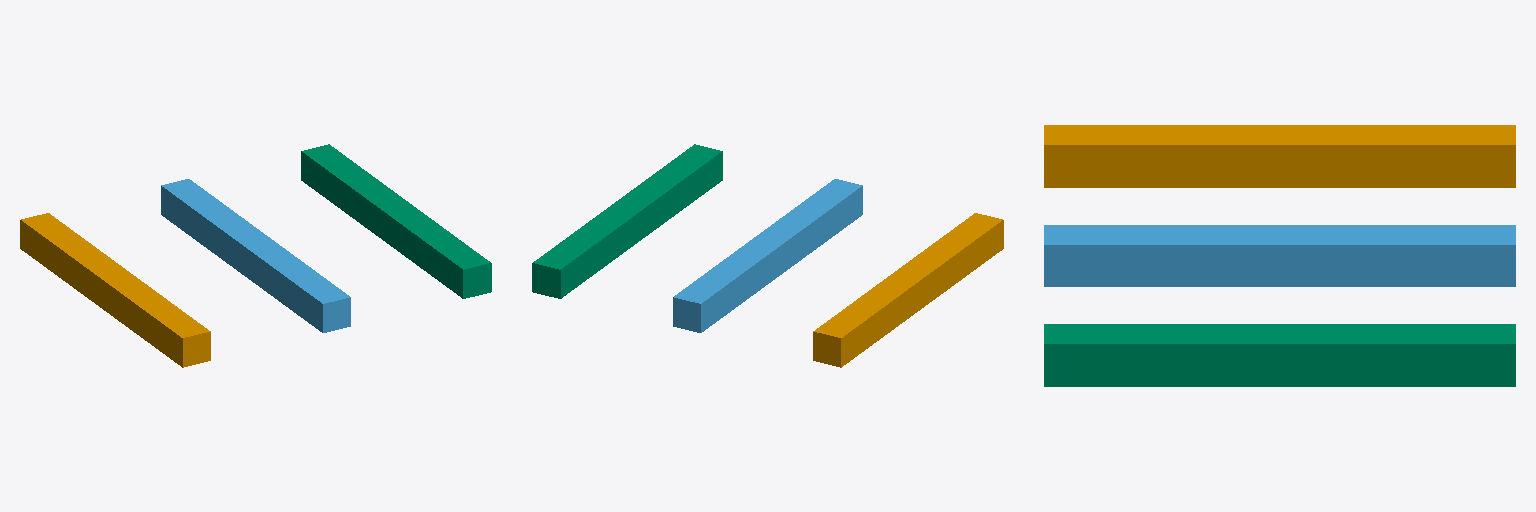
The robot description file, URDF, robot "boxes":
<?xml version="1.0" ?>
<robot name="boxes">
  <link name="a_link">
    <visual name="a_visual">
      <origin xyz="-0.5 0 0" rpy="0 0 0" />
      <geometry>
        <box size="0.1 1 0.1" />
      </geometry>
    </visual>
  </link>
  <joint name="a_b_joint" type="fixed">
    <parent link="a_link"/>
    <child link="b_link"/>
    <origin xyz="0 0 0" rpy="0 0 0" />
  </joint>
  <link name="b_link">
    <visual name="b_visual">
      <origin xyz="0 0 0" rpy="0 0 0" />
      <geometry>
        <box size="0.1 1 0.1" />
      </geometry>
    </visual>
  </link>
  <joint name="b_c_joint" type="fixed">
    <parent link="b_link"/>
    <child link="c_link"/>
    <origin xyz="0 0 0" rpy="0 0 0" />
  </joint>
  <link name="c_link">
    <visual name="c_visual">
      <origin xyz="0.5 0 0" rpy="0 0 0" />
      <geometry>
        <box size="0.1 1 0.1" />
      </geometry>
    </visual>
  </link>
</robot>

--- What the picture shows (computed from the rendered views, not written in the file) ---
The picture shows the robot from 3 angles, left to right: view 1: azimuth 30°, elevation 25°; view 2: azimuth 150°, elevation 25°; view 3: azimuth 270°, elevation 25°; orthographic projection.
Robot: boxes — 3 links, 2 joints (2 fixed); root link a_link; default pose: every joint at zero.
Links seen in each view (by area): view 1: a_link, c_link, b_link; view 2: a_link, c_link, b_link; view 3: a_link, c_link, b_link.
Boxes of the visible links, <box> form: a_link: <box>20,213,210,367</box>; c_link: <box>301,144,491,298</box>; b_link: <box>161,179,350,332</box>; a_link: <box>813,213,1003,367</box>; c_link: <box>532,144,722,298</box>; b_link: <box>673,179,862,332</box>; a_link: <box>1044,125,1515,187</box>; c_link: <box>1044,324,1515,386</box>; b_link: <box>1044,225,1515,286</box>.
Size in the robot's own frame: 1.1 by 1 by 0.1 metres.
Geometry: primitives only (box / cylinder / sphere), no mesh files.